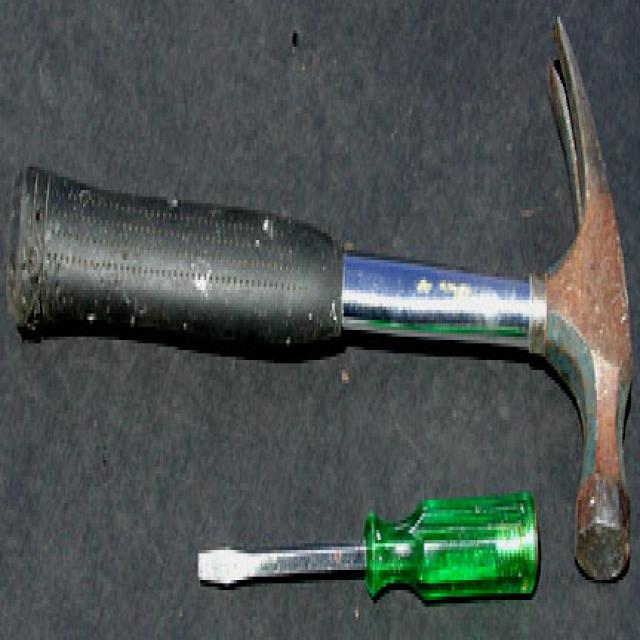hammer: (3, 0, 640, 495)
screw driver: (182, 466, 535, 628)
